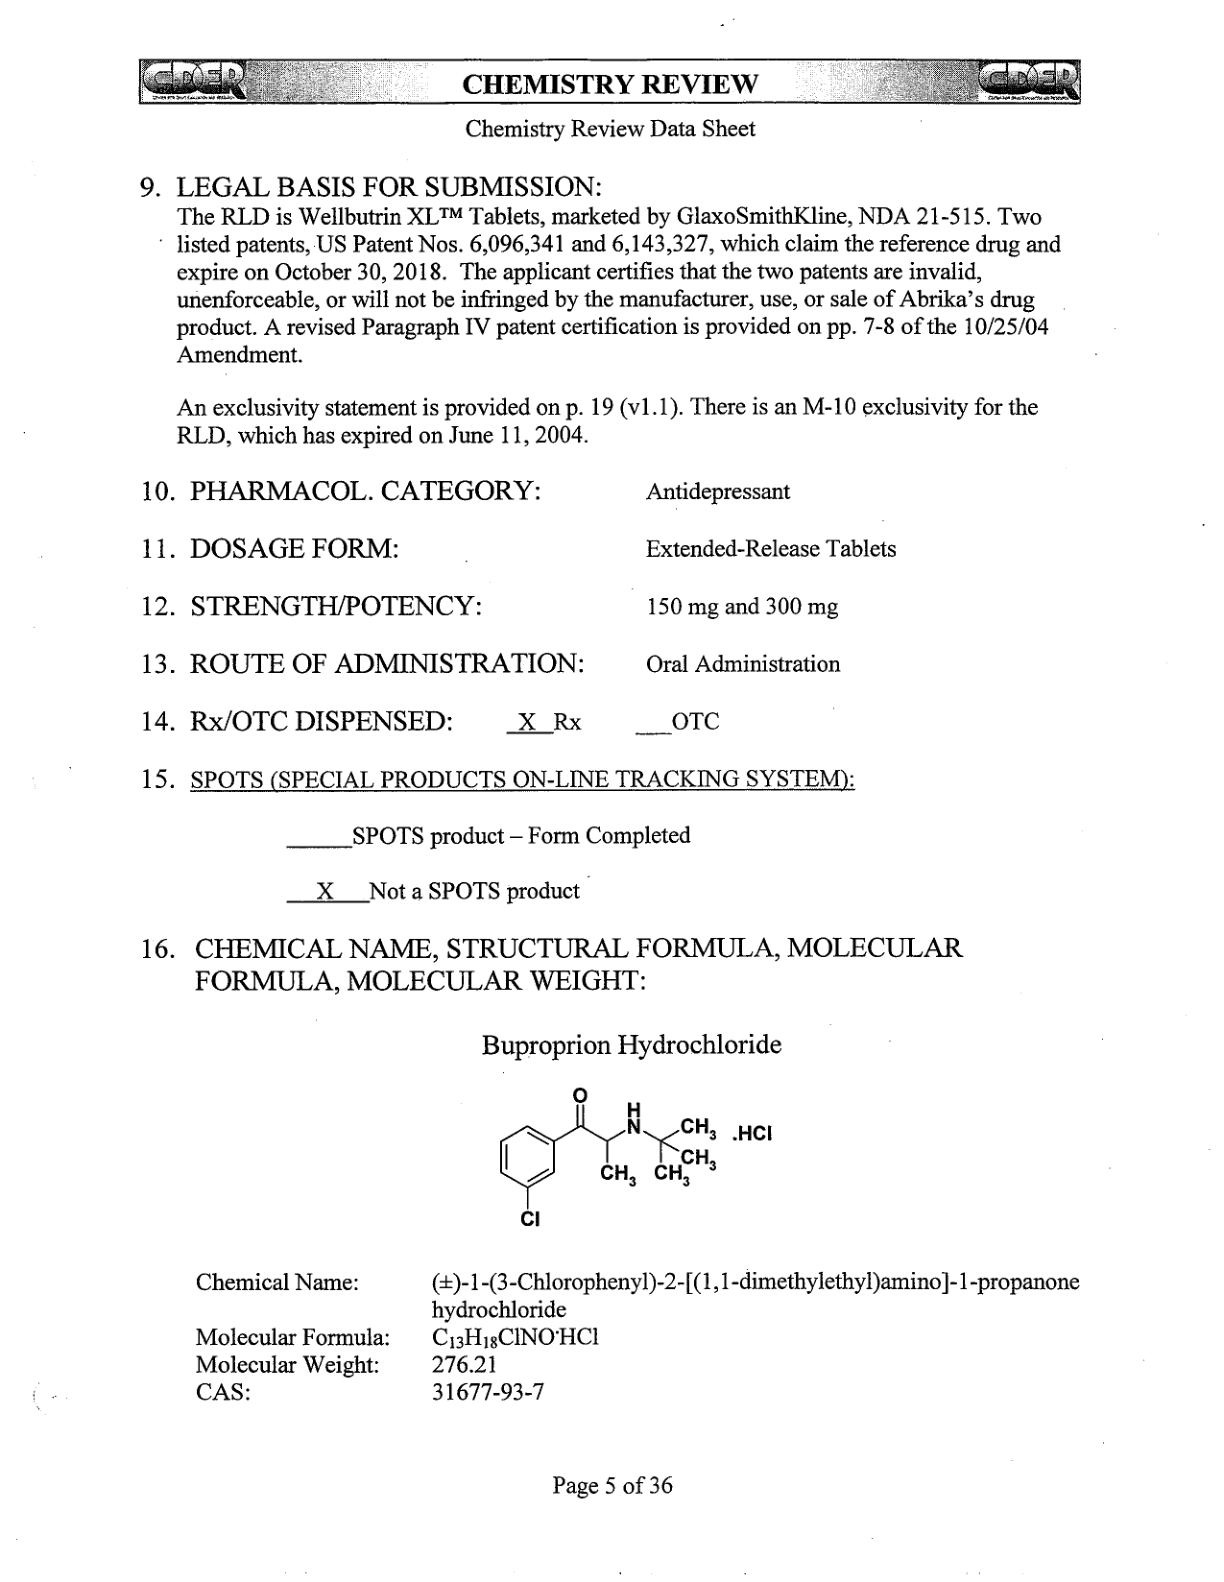nolines: (140, 476, 904, 742), (188, 1257, 1087, 1407)
